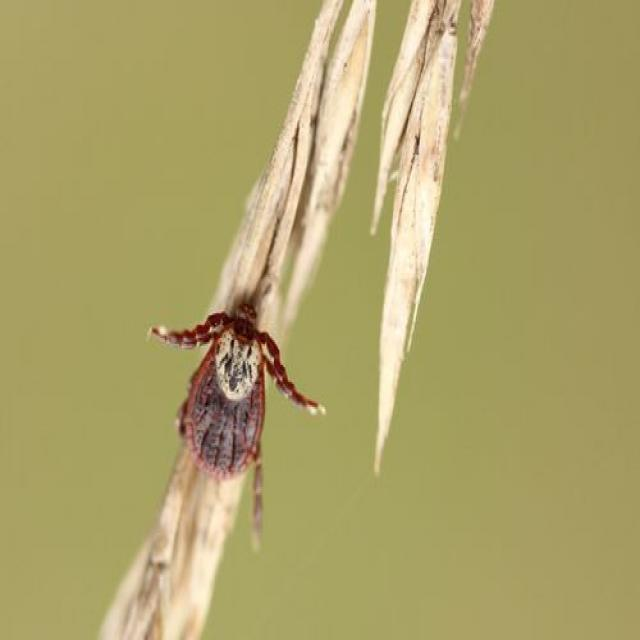Dermacentor Reticulatus-F: (150, 300, 325, 550)
